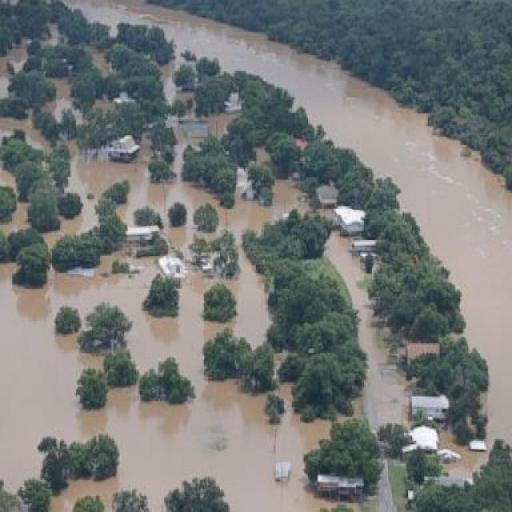flood: (67, 0, 512, 442), (0, 248, 330, 512), (65, 0, 230, 102), (326, 232, 410, 429), (71, 151, 216, 250), (199, 180, 309, 245), (44, 165, 97, 246), (439, 430, 488, 478), (43, 80, 83, 124), (171, 126, 202, 182), (0, 39, 28, 96), (0, 201, 29, 232), (205, 113, 238, 138), (41, 24, 61, 46), (0, 163, 16, 190), (256, 147, 270, 162), (229, 92, 241, 108), (68, 141, 77, 158)
house: (329, 204, 367, 235), (410, 393, 448, 421), (107, 135, 142, 163)
